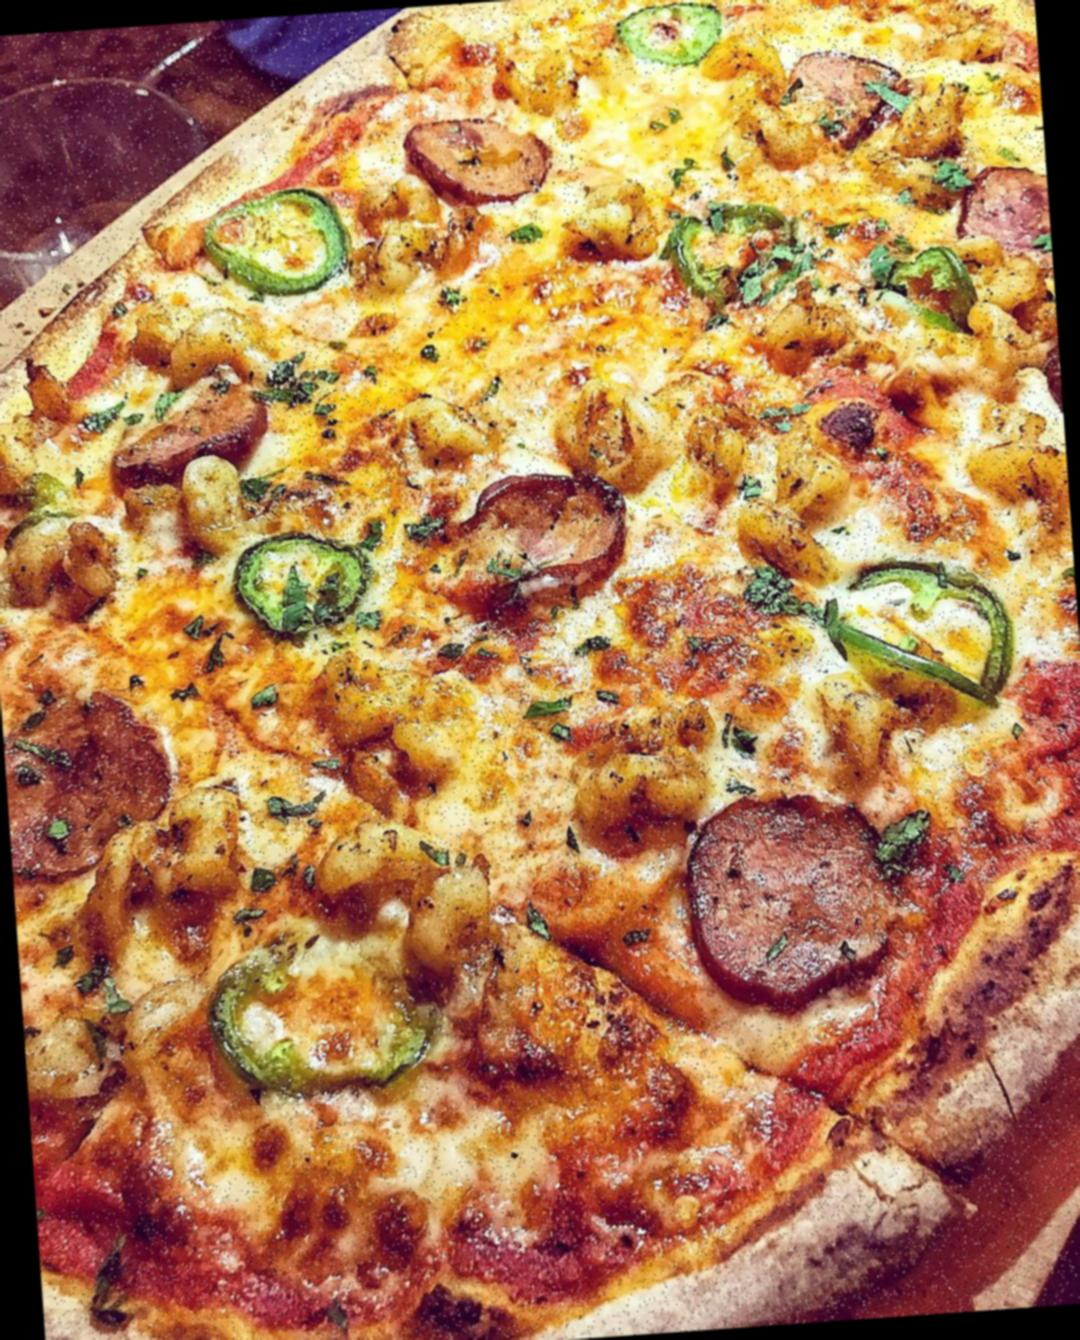Cheese: (326, 671, 586, 909), (393, 236, 681, 418), (642, 422, 812, 580), (125, 583, 272, 755), (580, 67, 749, 186)
Pepperoni: (683, 787, 907, 1006), (9, 688, 164, 928), (454, 464, 640, 636), (806, 348, 957, 520), (402, 112, 555, 220), (115, 374, 276, 476), (943, 158, 1054, 287), (785, 41, 900, 156)
Peppers: (215, 918, 458, 1093), (827, 552, 1017, 706), (184, 187, 344, 294), (661, 190, 793, 296), (231, 536, 365, 628), (867, 235, 981, 326), (607, 0, 736, 61)
Pizza: (0, 0, 1080, 1340)
